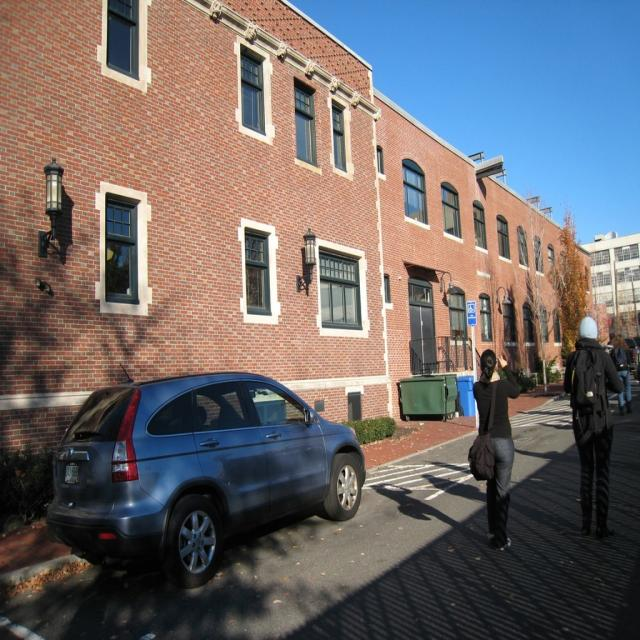car: (39, 359, 367, 583)
